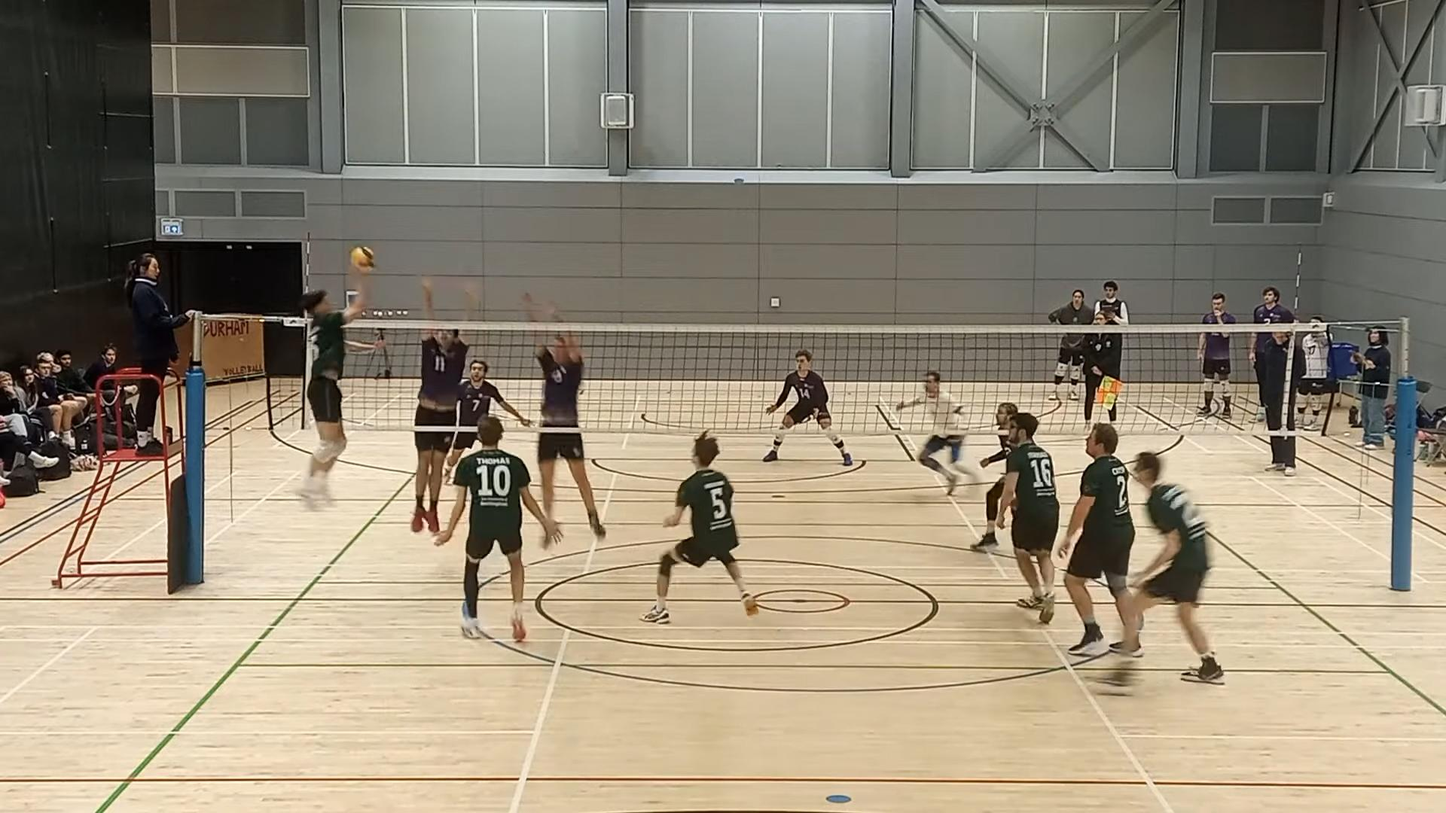attacco: (296, 270, 368, 516)
muro: (515, 289, 609, 548), (412, 261, 480, 543)
